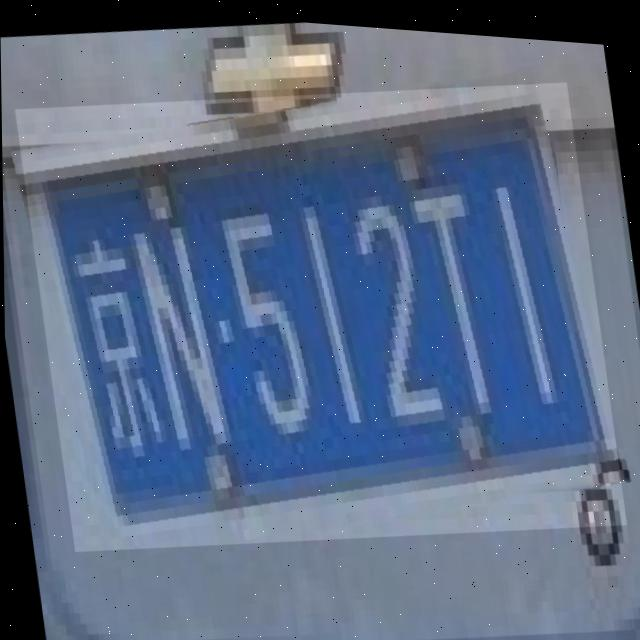LicensePlate: (13, 41, 626, 583)
